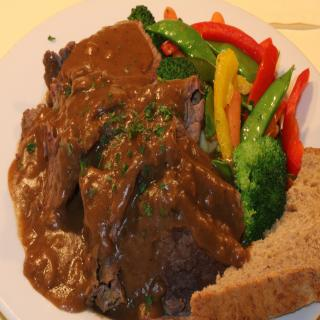Broccoli: (231, 134, 287, 244), (128, 4, 171, 59), (157, 57, 207, 99)
